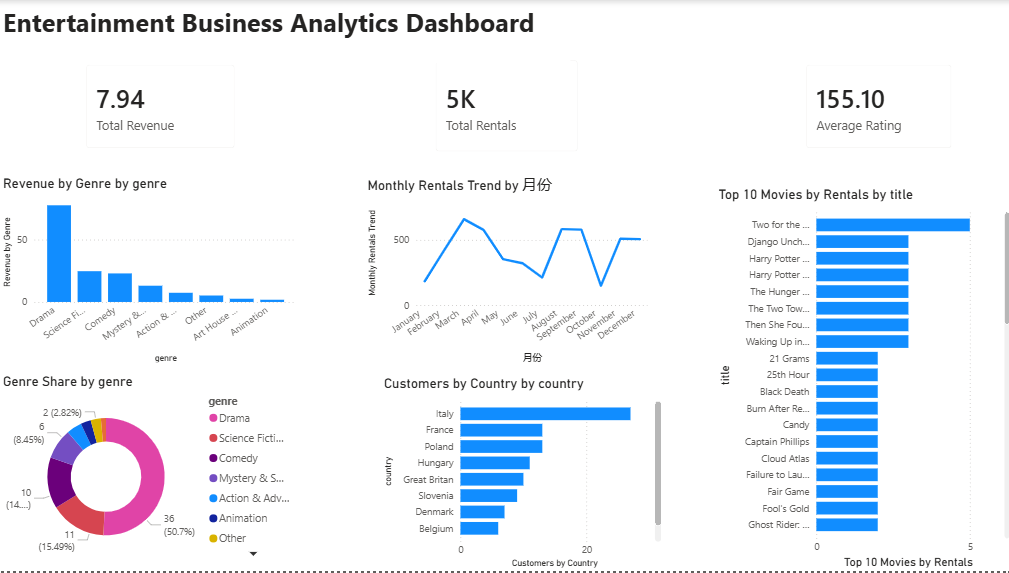

Layout of this report page (visuals, bound fields, positions):
{"tool":"powerbi","page":{"name":"entertainment Business Analytics Dashboard","canvas":[1280,720],"ordinal":0},"visuals":[{"type":"cardVisual","fields":{"Data":["Sum(movies.renting_price)"]},"box":[276.9,81.7,217.1,139.4],"z":0},{"type":"cardVisual","fields":{"Data":["CountNonNull(renting.renting_id)"]},"box":[63.7,71.7,213.1,149.4],"z":1000},{"type":"cardVisual","fields":{"Data":["Avg(renting.rating)"]},"box":[495.9,79.7,223.1,139.4],"z":2000},{"type":"lineChart","title":"Monthly Rentals Trend","fields":{"Y":["Sum(renting.renting_id)"],"Category":["renting.date_renting.变体.日期层次结构.月份"]},"box":[459.2,219.2,362.8,241.9],"z":3000},{"type":"clusteredColumnChart","fields":{"Category":["movies.genre"],"Y":["Sum(movies.renting_price)"]},"box":[0,221.1,379.8,240],"z":4000},{"type":"clusteredBarChart","fields":{"Category":["movies.title"],"Y":["CountNonNull(renting.renting_id)"]},"box":[896.3,262.9,382.4,456.1],"z":5000},{"type":"clusteredBarChart","title":"Customers by Country ","fields":{"Category":["customers.country"],"Y":["Count(customers.customer_id)"]},"box":[480,472.4,359.1,247.6],"z":6000},{"type":"donutChart","title":"Genre Share","fields":{"Category":["movies.genre"],"Y":["CountNonNull(movies.movie_id)"]},"box":[0,471,380,240],"z":7000},{"type":"textbox","box":[0,0,720,79.4],"z":8000},{"type":"slicer","fields":{"Values":["movies.genre"]},"box":[838.5,23.9,207.1,239],"z":9000},{"type":"slicer","fields":{"Values":["customers.country"]},"box":[1063.6,23.9,215.1,239],"z":10000}]}

Visuals, with their boxes in screenshot pixels (x1, y1, x2, y2), scaled from the page's 1280x720 canvas onto the 1009x573 screenshot:
cardVisual - Sum(movies.renting_price): bbox(218, 65, 389, 176)
cardVisual - CountNonNull(renting.renting_id): bbox(50, 57, 218, 176)
cardVisual - Avg(renting.rating): bbox(391, 63, 567, 174)
"Monthly Rentals Trend" lineChart: bbox(362, 174, 648, 367)
clusteredColumnChart - movies.genre x Sum(movies.renting_price): bbox(0, 176, 299, 367)
clusteredBarChart - movies.title x CountNonNull(renting.renting_id): bbox(707, 209, 1008, 572)
"Customers by Country " clusteredBarChart: bbox(378, 376, 661, 572)
"Genre Share" donutChart: bbox(0, 375, 300, 566)
textbox: bbox(0, 0, 568, 63)
slicer - movies.genre: bbox(661, 19, 824, 209)
slicer - customers.country: bbox(838, 19, 1008, 209)
